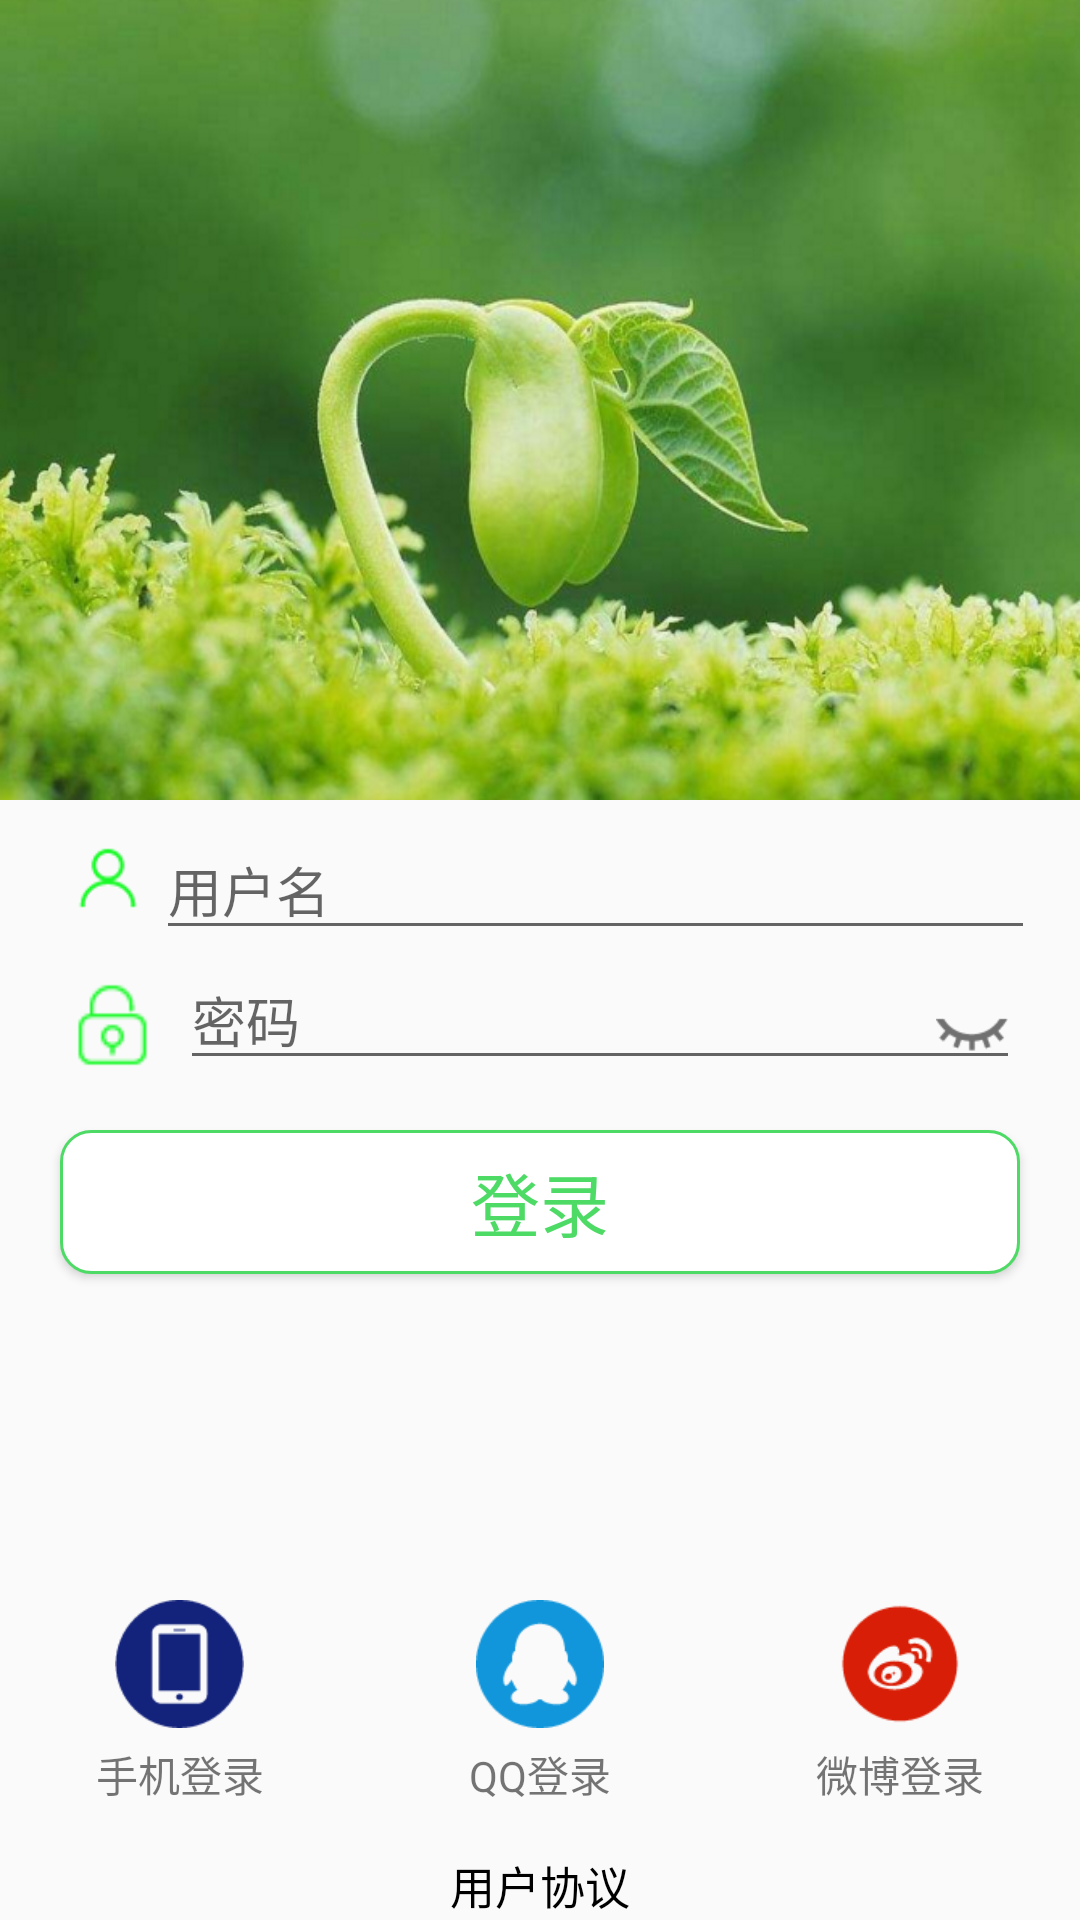

Point at icon controls on the screen. Image size 1080 x 1920, points as point (x, y).
lock air: point (112, 1025)
user login: point (108, 878)
